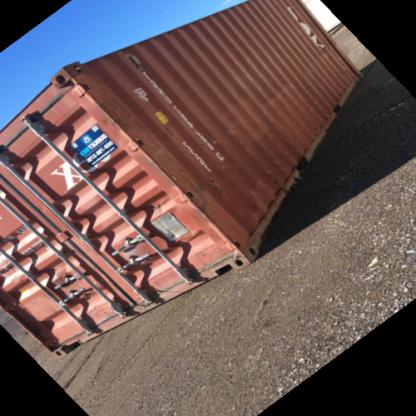Damage: (147, 149, 195, 186), (98, 96, 139, 132), (199, 171, 228, 197), (188, 191, 214, 219), (94, 300, 116, 324)
